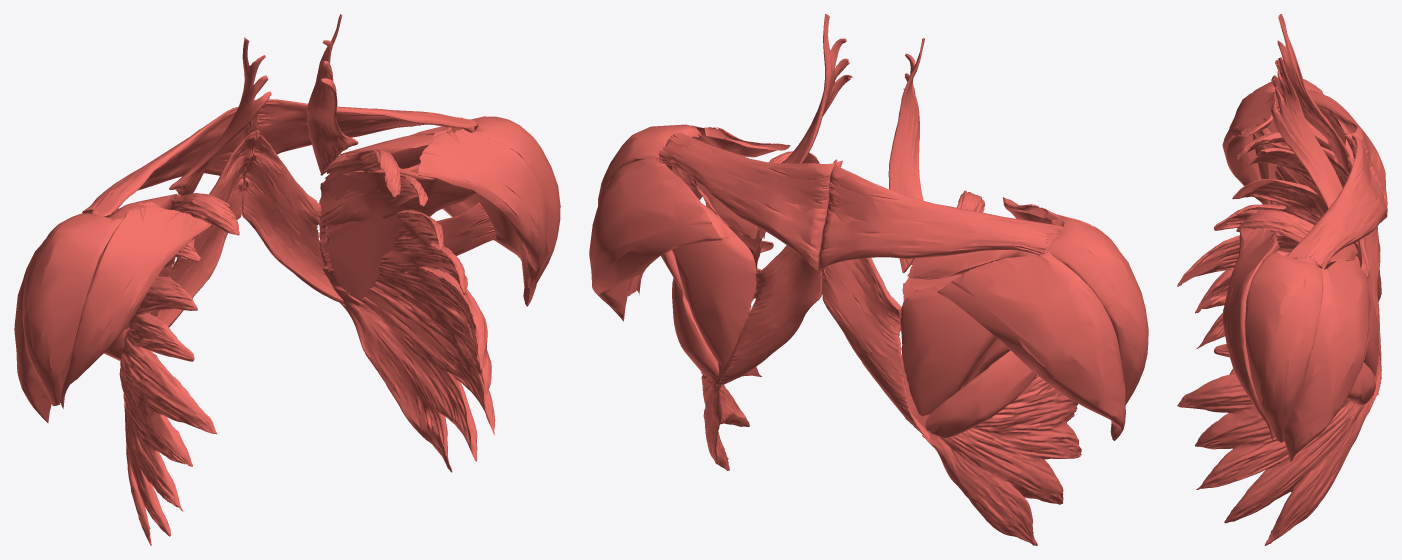
File: supplement-shoulder-muscle.glb
The picture shows the model from 3 angles, left to right: view 1: azimuth 30°, elevation 25°; view 2: azimuth 150°, elevation 25°; view 3: azimuth 270°, elevation 25°; orthographic projection. The views are drawn at different scales.
Parts seen in each view (by area): view 1: shoulder:serratus-anterior:isa:FJ1459M, shoulder:serratus-anterior:isa:FJ1459, shoulder:deltoid:isa:FJ1468, shoulder:deltoid:isa:FJ1467, shoulder:deltoid:isa:FJ1468M, shoulder:rhomboid-major:isa:FJ1536M, shoulder:subscapularis:isa:FJ1504M, shoulder:trapezius:isa:FJ1554M, shoulder:trapezius:isa:FJ1554, shoulder:rhomboid-major:isa:FJ1536, shoulder:deltoid:isa:FJ1467M, shoulder:levator-scapulae:isa:FJ1532M (+5 smaller); view 2: shoulder:deltoid:isa:FJ1513, shoulder:serratus-anterior:isa:FJ1459, shoulder:trapezius:isa:FJ1554, shoulder:deltoid:isa:FJ1513M, shoulder:trapezius:isa:FJ1554M, shoulder:infraspinatus:isa:FJ1500, shoulder:rhomboid-major:isa:FJ1536, shoulder:deltoid:isa:FJ1467, shoulder:infraspinatus:isa:FJ1500M, shoulder:rhomboid-major:isa:FJ1536M, shoulder:teres-major:isa:FJ1507, shoulder:levator-scapulae:isa:FJ1532 (+8 smaller); view 3: shoulder:serratus-anterior:isa:FJ1459M, shoulder:deltoid:isa:FJ1467M, shoulder:deltoid:isa:FJ1513M, shoulder:serratus-anterior:isa:FJ1459, shoulder:trapezius:isa:FJ1554M, shoulder:deltoid:isa:FJ1468M, shoulder:levator-scapulae:isa:FJ1532M, shoulder:deltoid:isa:FJ1468, shoulder:levator-scapulae:isa:FJ1532, shoulder:trapezius:isa:FJ1554, shoulder:rhomboid-major:isa:FJ1536M, shoulder:deltoid:isa:FJ1467 (+5 smaller).
Part boxes in pixels (x1,y1,x2,y2): shoulder:serratus-anterior:isa:FJ1459M: (319,149,495,472); shoulder:serratus-anterior:isa:FJ1459: (119,193,239,545); shoulder:deltoid:isa:FJ1468: (60,202,210,408); shoulder:deltoid:isa:FJ1467: (22,213,123,406); shoulder:deltoid:isa:FJ1468M: (418,127,547,294); shoulder:rhomboid-major:isa:FJ1536M: (242,130,344,304); shoulder:subscapularis:isa:FJ1504M: (324,168,476,301); shoulder:trapezius:isa:FJ1554M: (243,99,476,178); shoulder:trapezius:isa:FJ1554: (82,106,258,216); shoulder:rhomboid-major:isa:FJ1536: (156,130,257,327); shoulder:deltoid:isa:FJ1467M: (471,116,560,288); shoulder:levator-scapulae:isa:FJ1532M: (306,14,358,173); shoulder:deltoid:isa:FJ1513: (934,251,1125,440); shoulder:serratus-anterior:isa:FJ1459: (900,190,1081,545); shoulder:trapezius:isa:FJ1554: (817,159,1062,272); shoulder:deltoid:isa:FJ1513M: (589,154,734,321); shoulder:trapezius:isa:FJ1554M: (658,132,842,272); shoulder:infraspinatus:isa:FJ1500: (900,286,996,416); shoulder:rhomboid-major:isa:FJ1536: (822,258,929,440); shoulder:deltoid:isa:FJ1467: (1046,218,1148,404); shoulder:infraspinatus:isa:FJ1500M: (657,158,756,367); shoulder:rhomboid-major:isa:FJ1536M: (715,245,822,388); shoulder:teres-major:isa:FJ1507: (925,350,1036,437); shoulder:levator-scapulae:isa:FJ1532: (888,38,924,272); shoulder:serratus-anterior:isa:FJ1459M: (1177,209,1379,545); shoulder:deltoid:isa:FJ1467M: (1245,251,1323,442); shoulder:deltoid:isa:FJ1513M: (1284,260,1370,461); shoulder:serratus-anterior:isa:FJ1459: (1177,132,1348,374); shoulder:trapezius:isa:FJ1554M: (1287,132,1387,269); shoulder:deltoid:isa:FJ1468M: (1222,228,1280,440); shoulder:levator-scapulae:isa:FJ1532M: (1271,57,1358,247); shoulder:deltoid:isa:FJ1468: (1222,90,1278,204); shoulder:levator-scapulae:isa:FJ1532: (1271,14,1350,175); shoulder:trapezius:isa:FJ1554: (1307,89,1387,222); shoulder:rhomboid-major:isa:FJ1536M: (1347,156,1381,400); shoulder:deltoid:isa:FJ1467: (1252,79,1322,204).
Size of the model in its own units: 0.4545 by 0.3904 by 0.1683.
